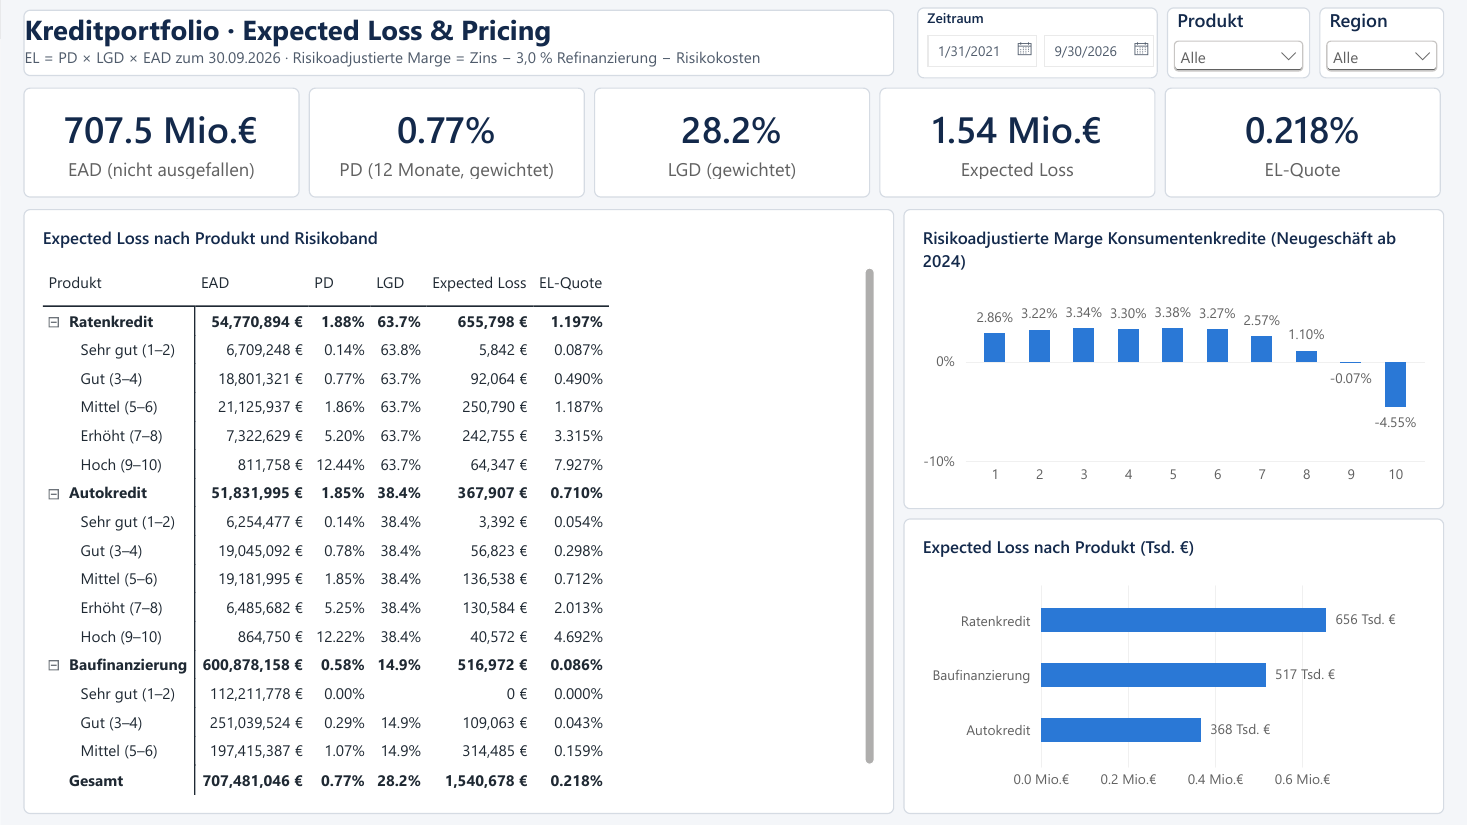

The page's visual inventory and layout, read from the dashboard file:
{"tool":"powerbi","page":{"name":"Expected Loss & Pricing","canvas":[1280,720],"ordinal":3},"visuals":[{"type":"textbox","box":[20,8,760,58],"z":1000},{"type":"slicer","fields":{"Values":["dim_datum.datum"]},"box":[800,6,210,62],"z":2000},{"type":"slicer","fields":{"Values":["dim_produkt.produkt"]},"box":[1018,6,125,62],"z":3000},{"type":"slicer","fields":{"Values":["dim_region.region"]},"box":[1151,6,109,62],"z":4000},{"type":"card","fields":{"Values":["_Measures.EAD"]},"box":[20,76,241,96],"z":5000},{"type":"card","fields":{"Values":["_Measures.PD gewichtet"]},"box":[269,76,241,96],"z":6000},{"type":"card","fields":{"Values":["_Measures.LGD gewichtet"]},"box":[518,76,241,96],"z":7000},{"type":"card","fields":{"Values":["_Measures.Expected Loss"]},"box":[767,76,241,96],"z":8000},{"type":"card","fields":{"Values":["_Measures.EL-Quote"]},"box":[1016,76,241,96],"z":9000},{"type":"pivotTable","title":"Expected Loss nach Produkt und Risikoband","fields":{"Rows":["dim_produkt.produkt","dim_rating.risikoband"],"Values":["_Measures.EAD","_Measures.PD gewichtet","_Measures.LGD gewichtet","_Measures.Expected Loss","_Measures.EL-Quote"]},"box":[20,182,760,528],"z":10000},{"type":"clusteredColumnChart","title":"Risikoadjustierte Marge Konsumentenkredite (Neugeschäft ab 2024)","fields":{"Category":["dim_rating.ratingklasse"],"Y":["_Measures.Risikoadjustierte Marge"]},"box":[788,182,472,262],"z":11000},{"type":"clusteredBarChart","title":"Expected Loss nach Produkt (Tsd. €)","fields":{"Category":["dim_produkt.produkt"],"Y":["_Measures.Expected Loss"]},"box":[788,452,472,258],"z":12000}]}

Visuals, with their boxes in screenshot pixels (x1, y1, x2, y2), scaled from the page's 1280x720 canvas onto the 1468x826 screenshot:
textbox: crop(23, 9, 895, 76)
slicer - dim_datum.datum: crop(918, 7, 1158, 78)
slicer - dim_produkt.produkt: crop(1168, 7, 1311, 78)
slicer - dim_region.region: crop(1320, 7, 1445, 78)
card - _Measures.EAD: crop(23, 87, 299, 197)
card - _Measures.PD gewichtet: crop(309, 87, 585, 197)
card - _Measures.LGD gewichtet: crop(594, 87, 870, 197)
card - _Measures.Expected Loss: crop(880, 87, 1156, 197)
card - _Measures.EL-Quote: crop(1165, 87, 1442, 197)
"Expected Loss nach Produkt und Risikoband" pivotTable: crop(23, 209, 895, 815)
"Risikoadjustierte Marge Konsumentenkredite (Neugeschäft ab 2024)" clusteredColumnChart: crop(904, 209, 1445, 509)
"Expected Loss nach Produkt (Tsd. €)" clusteredBarChart: crop(904, 519, 1445, 815)
